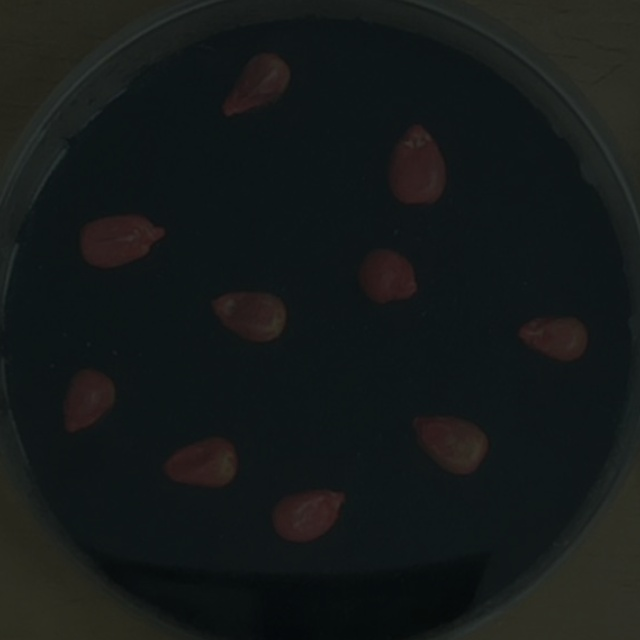Zea mays: (400, 404, 496, 484), (378, 115, 453, 214), (70, 204, 173, 276), (213, 44, 298, 124), (200, 282, 294, 351), (262, 478, 353, 549), (154, 425, 246, 495), (52, 360, 125, 440), (350, 239, 426, 312), (508, 305, 593, 368)
